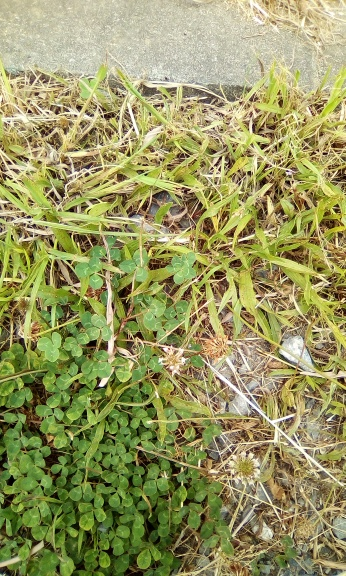4leaf: (164, 251, 198, 287)
